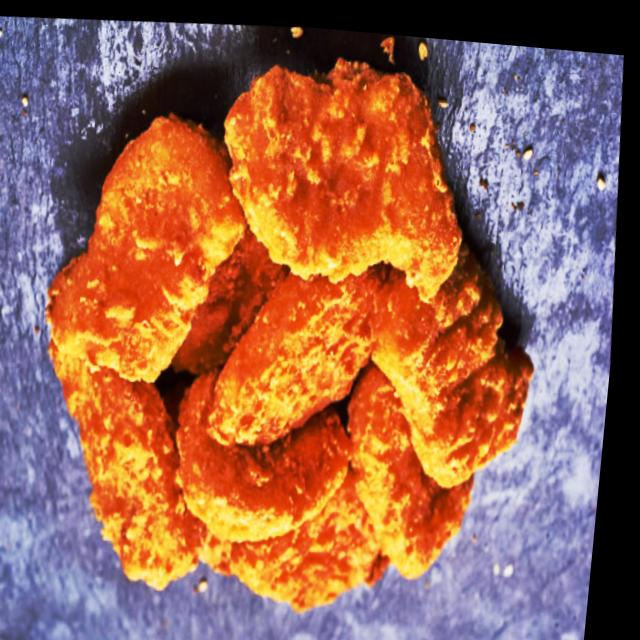chicken_nuggets: (200, 37, 479, 318), (20, 86, 262, 408)
